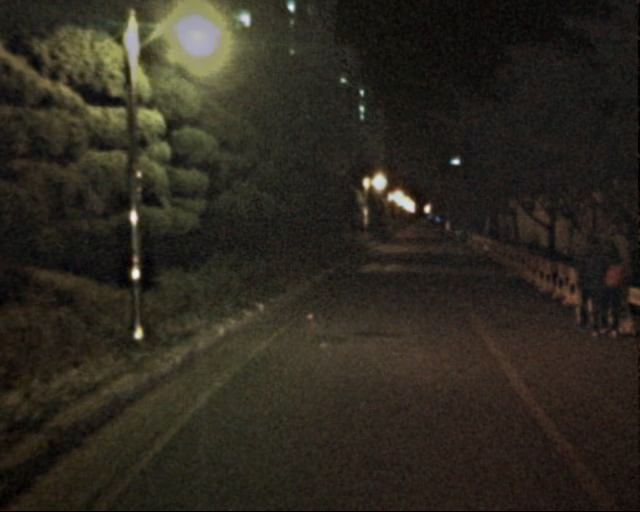person: (569, 234, 613, 341), (595, 243, 630, 336)
